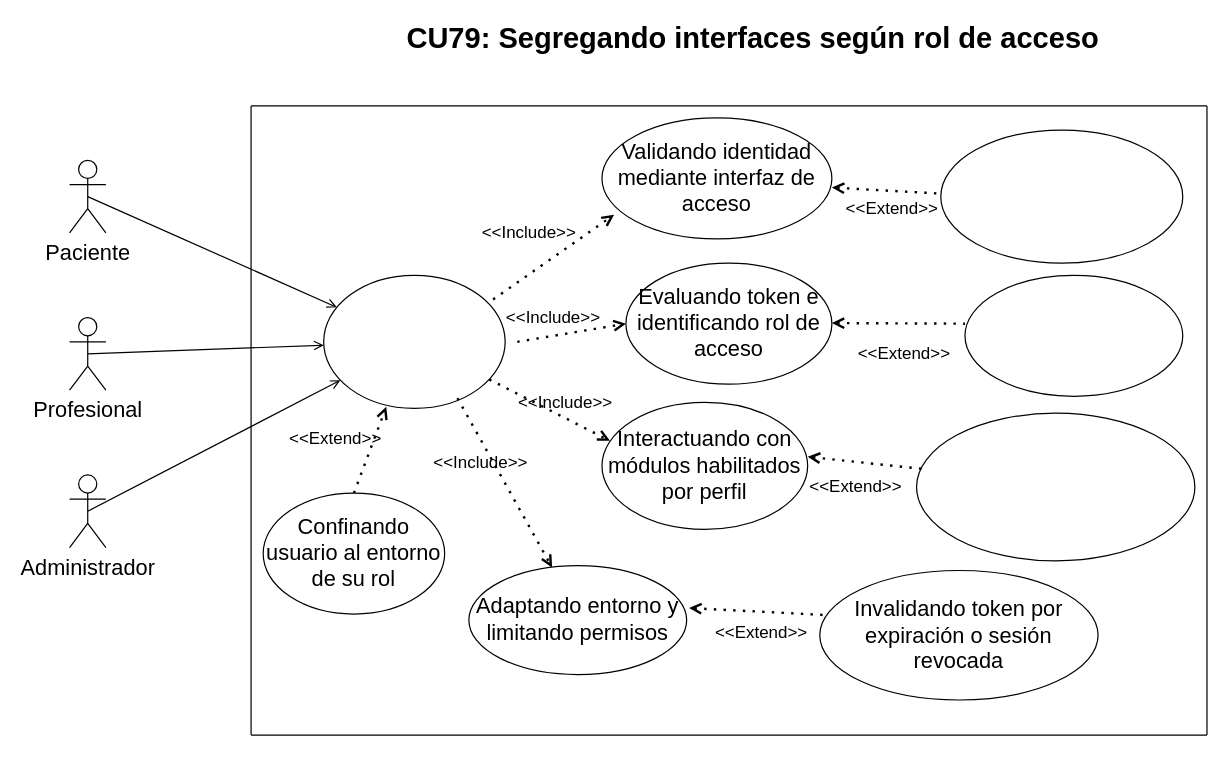
Some shapes in this 1229 by 757 pixel diagram are drawn without their labels. Each missing label, with the box of its shape:
Abortando acceso por fallo de identidad: (940, 129, 1183, 263)
Desautorizando por token invalido: (964, 274, 1183, 396)
Interceptando solicitud y redirigiendo al inicio en el servidor: (915, 412, 1195, 561)
Segregando interfaces según rol de acceso: (322, 274, 505, 408)
